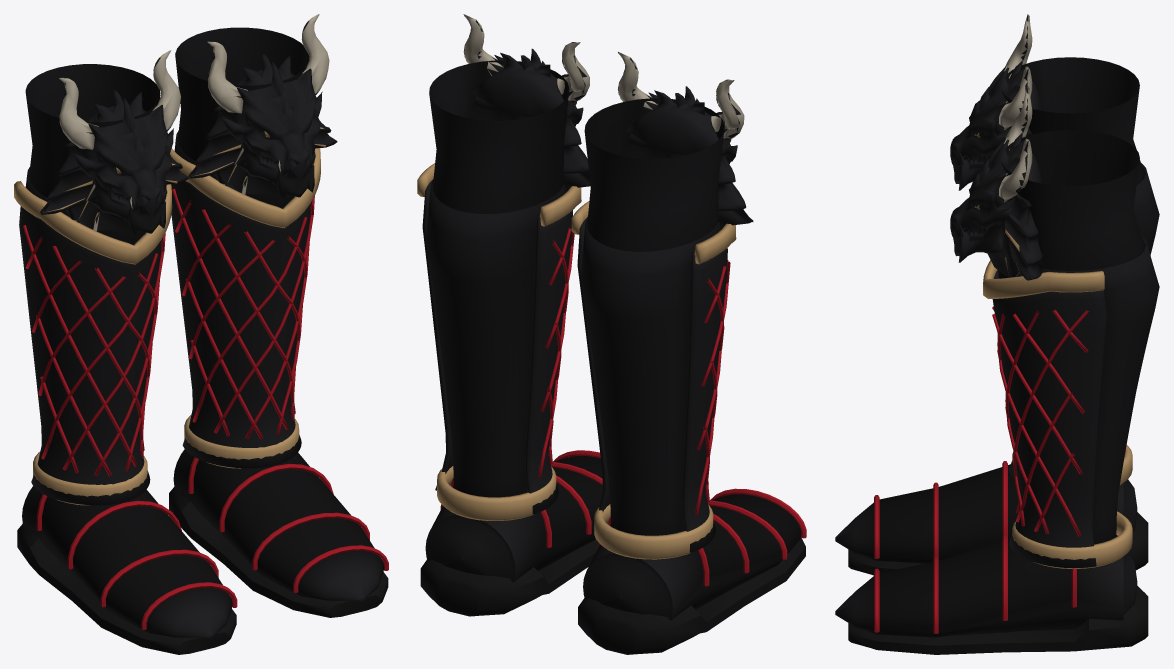
File: f_dragonknight_dark.glb
3 views of the same model, side by side, from view 1: azimuth 30°, elevation 25°; view 2: azimuth 150°, elevation 25°; view 3: azimuth 270°, elevation 25° (orthographic). The views are drawn at different scales.
Parts seen in each view (by area): view 1: LegR_Boot, LegL_Boot, LegR_BootFoot, LegL_BootFoot; view 2: LegR_Boot, LegL_Boot, LegR_BootFoot, LegL_BootFoot; view 3: LegL_Boot, LegL_BootFoot, LegR_Boot, LegR_BootFoot.
Part boxes in pixels (box(x1,y1,x2,y2)): LegR_Boot: box(14, 50, 188, 505); LegL_Boot: box(170, 14, 337, 468); LegR_BootFoot: box(17, 486, 237, 654); LegL_BootFoot: box(169, 449, 388, 617); LegR_Boot: box(571, 52, 753, 559); LegL_Boot: box(417, 14, 590, 520); LegR_BootFoot: box(578, 488, 806, 654); LegL_BootFoot: box(420, 450, 602, 616); LegL_Boot: box(950, 86, 1159, 568); LegL_BootFoot: box(835, 534, 1148, 654); LegR_Boot: box(950, 14, 1159, 485); LegR_BootFoot: box(835, 461, 1148, 575).
Size of the model in its own units: 0.3797 by 0.6376 by 0.3613.
